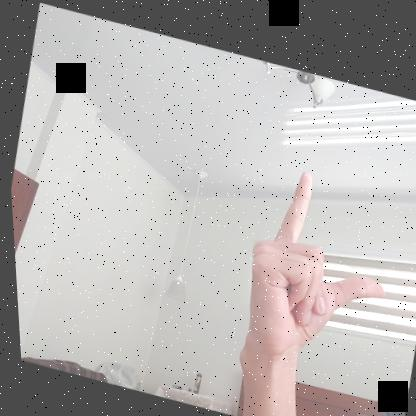L: (222, 155, 404, 377)
